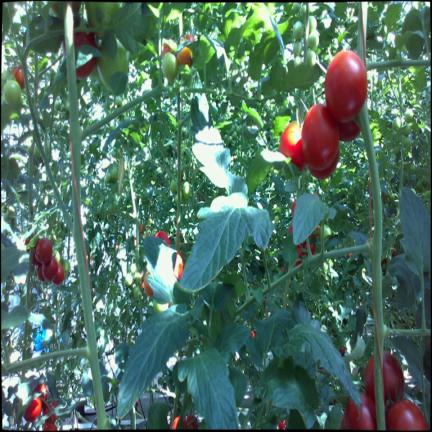6kp_petiole: (374, 294, 422, 392), (328, 205, 382, 291), (43, 307, 101, 385), (68, 97, 115, 180), (53, 184, 87, 267), (165, 166, 181, 192), (177, 106, 191, 135)
MainStem: (63, 1, 108, 429), (357, 98, 386, 431), (358, 1, 368, 66), (176, 94, 180, 253)
tomato: (324, 50, 367, 122), (302, 104, 339, 170), (364, 351, 404, 403), (64, 32, 99, 78), (96, 39, 127, 89), (279, 122, 306, 170), (386, 399, 427, 430), (344, 393, 377, 430), (86, 2, 119, 38), (162, 52, 178, 81), (338, 120, 360, 141), (24, 397, 41, 422), (35, 238, 52, 263), (4, 80, 21, 104), (43, 401, 57, 430), (42, 257, 58, 280), (176, 46, 191, 66), (12, 66, 24, 88), (143, 271, 153, 297), (33, 382, 48, 399), (155, 230, 170, 246), (53, 263, 64, 284), (174, 253, 183, 278), (308, 30, 319, 50), (153, 299, 168, 313), (319, 225, 331, 241), (293, 21, 303, 40), (43, 418, 57, 430), (182, 181, 191, 198), (307, 50, 316, 66), (309, 15, 317, 33), (37, 263, 45, 281), (162, 44, 173, 57), (293, 41, 302, 56), (392, 117, 401, 130), (111, 166, 118, 182), (403, 124, 411, 136), (62, 260, 70, 272), (170, 179, 176, 193), (403, 137, 411, 147), (185, 34, 194, 42), (294, 56, 301, 66), (104, 172, 111, 182), (115, 96, 122, 106), (393, 145, 400, 154), (54, 250, 59, 262), (389, 193, 395, 201)
